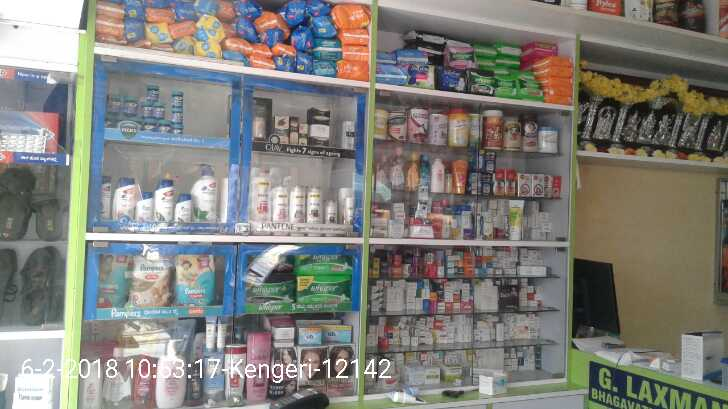beauty: (188, 159, 223, 226), (110, 172, 139, 228), (250, 169, 272, 225), (335, 184, 362, 228), (152, 174, 173, 226), (285, 182, 308, 229), (308, 104, 331, 148), (132, 186, 155, 225), (173, 190, 195, 225), (270, 186, 289, 225), (307, 183, 323, 226), (269, 112, 289, 144), (320, 198, 340, 227), (288, 111, 298, 145), (297, 121, 306, 145)
pharmacy: (130, 254, 170, 308), (174, 253, 215, 305), (292, 274, 354, 305), (96, 253, 129, 311), (237, 279, 298, 310), (294, 251, 359, 273), (121, 93, 140, 118), (169, 88, 190, 110), (145, 80, 161, 101), (108, 92, 123, 114), (168, 107, 186, 125), (150, 99, 165, 119), (140, 97, 151, 121)
